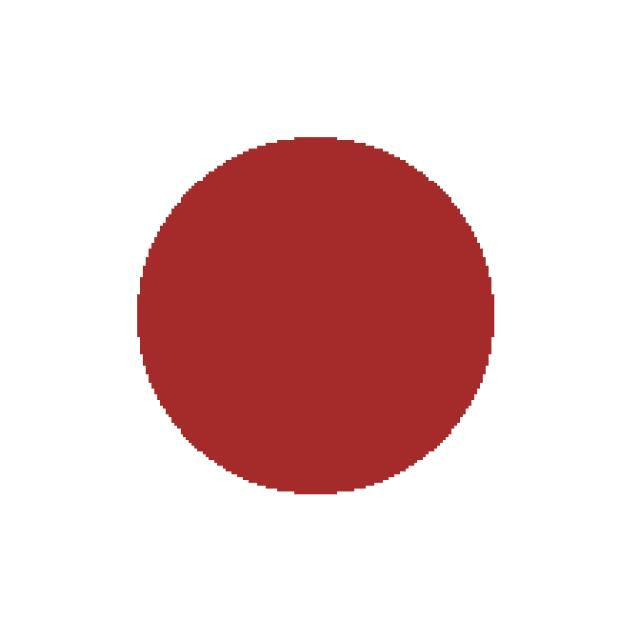Circle: (119, 123, 536, 527)
